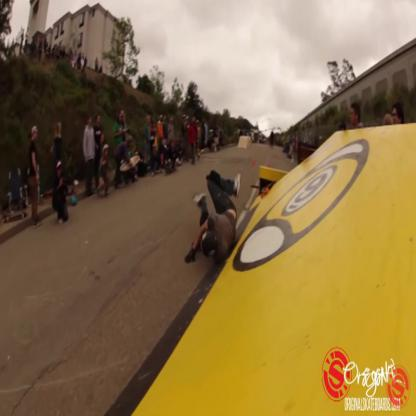Fall_Down: (184, 168, 242, 265)
